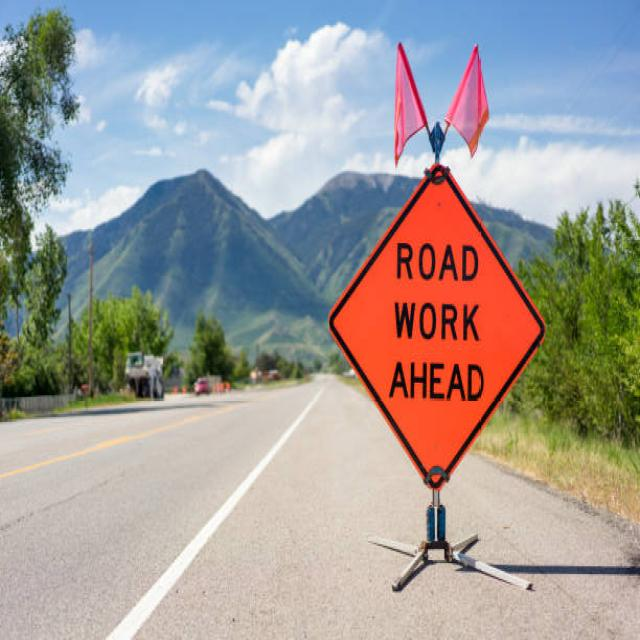road-sign: (327, 159, 551, 498)
